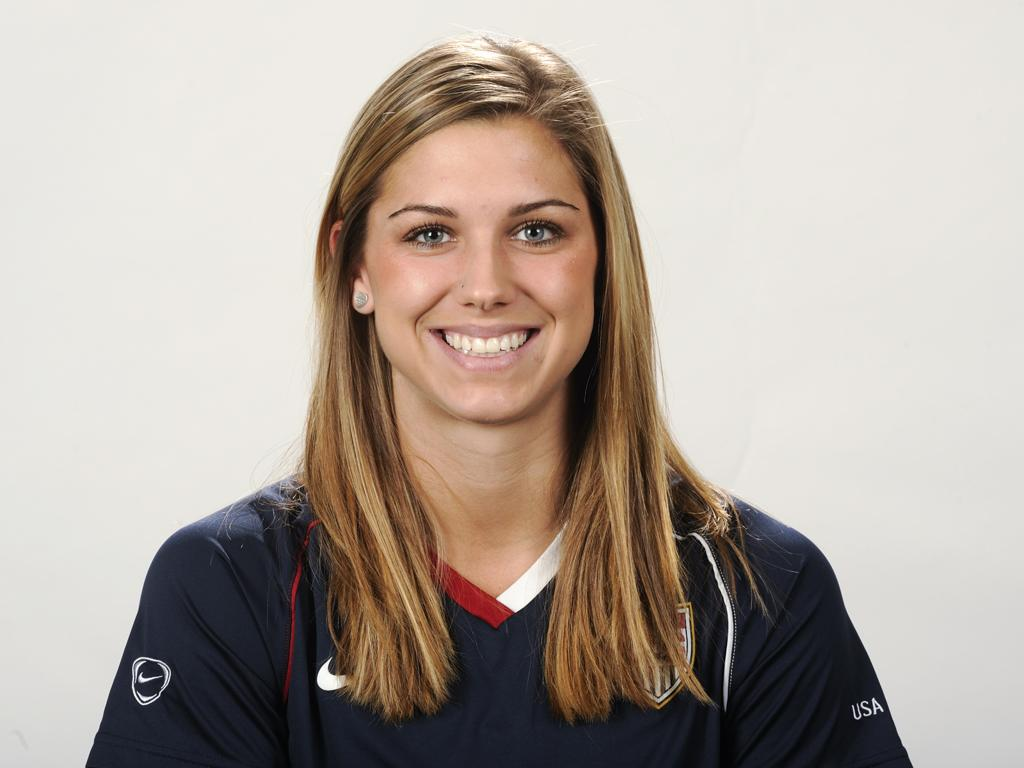face: (369, 117, 597, 419)
